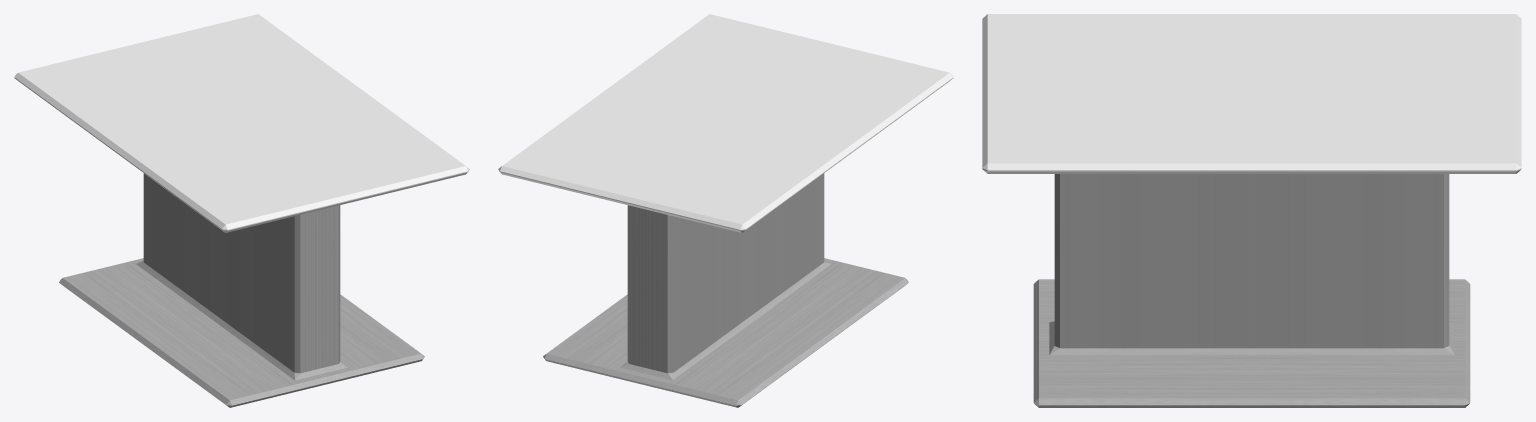
Rendered from shoptable02.fbx.
3 renders of one model, left to right at view 1: azimuth 30°, elevation 25°; view 2: azimuth 150°, elevation 25°; view 3: azimuth 270°, elevation 25°, orthographic. The views are drawn at different scales.
Visible parts, largest first — view 1: Table.001; view 2: Table.001; view 3: Table.001.
Boxes of the visible parts, bbox=[...] form: Table.001: bbox=[14, 14, 469, 407]; Table.001: bbox=[498, 14, 953, 407]; Table.001: bbox=[982, 14, 1521, 407].
Bounding box in the file's own units: 106 × 83.67 × 157.
Materials: 2 (2 with a texture image).
